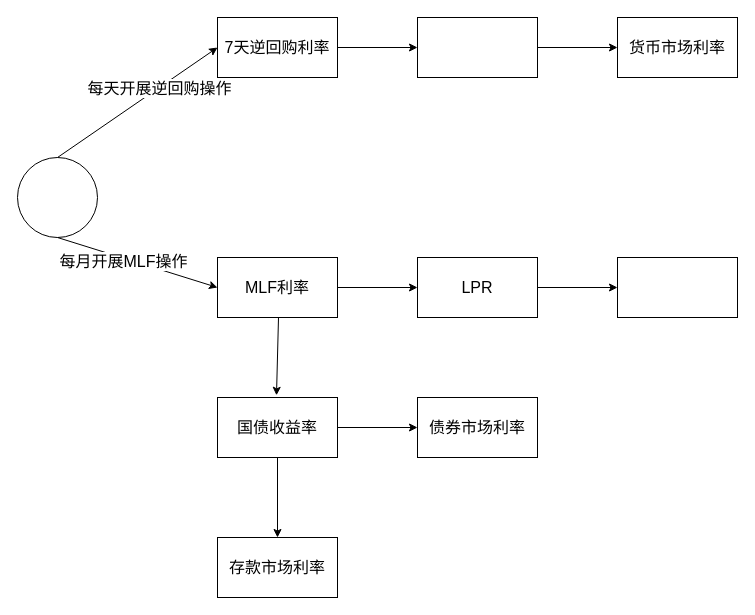
This 755x615 diagram has some shape labels left out. The centre of each missing label's shape, as x and y in pixels:
DR007: the point at 477,47
央行: the point at 57,197
贷款市场利率: the point at 677,287
